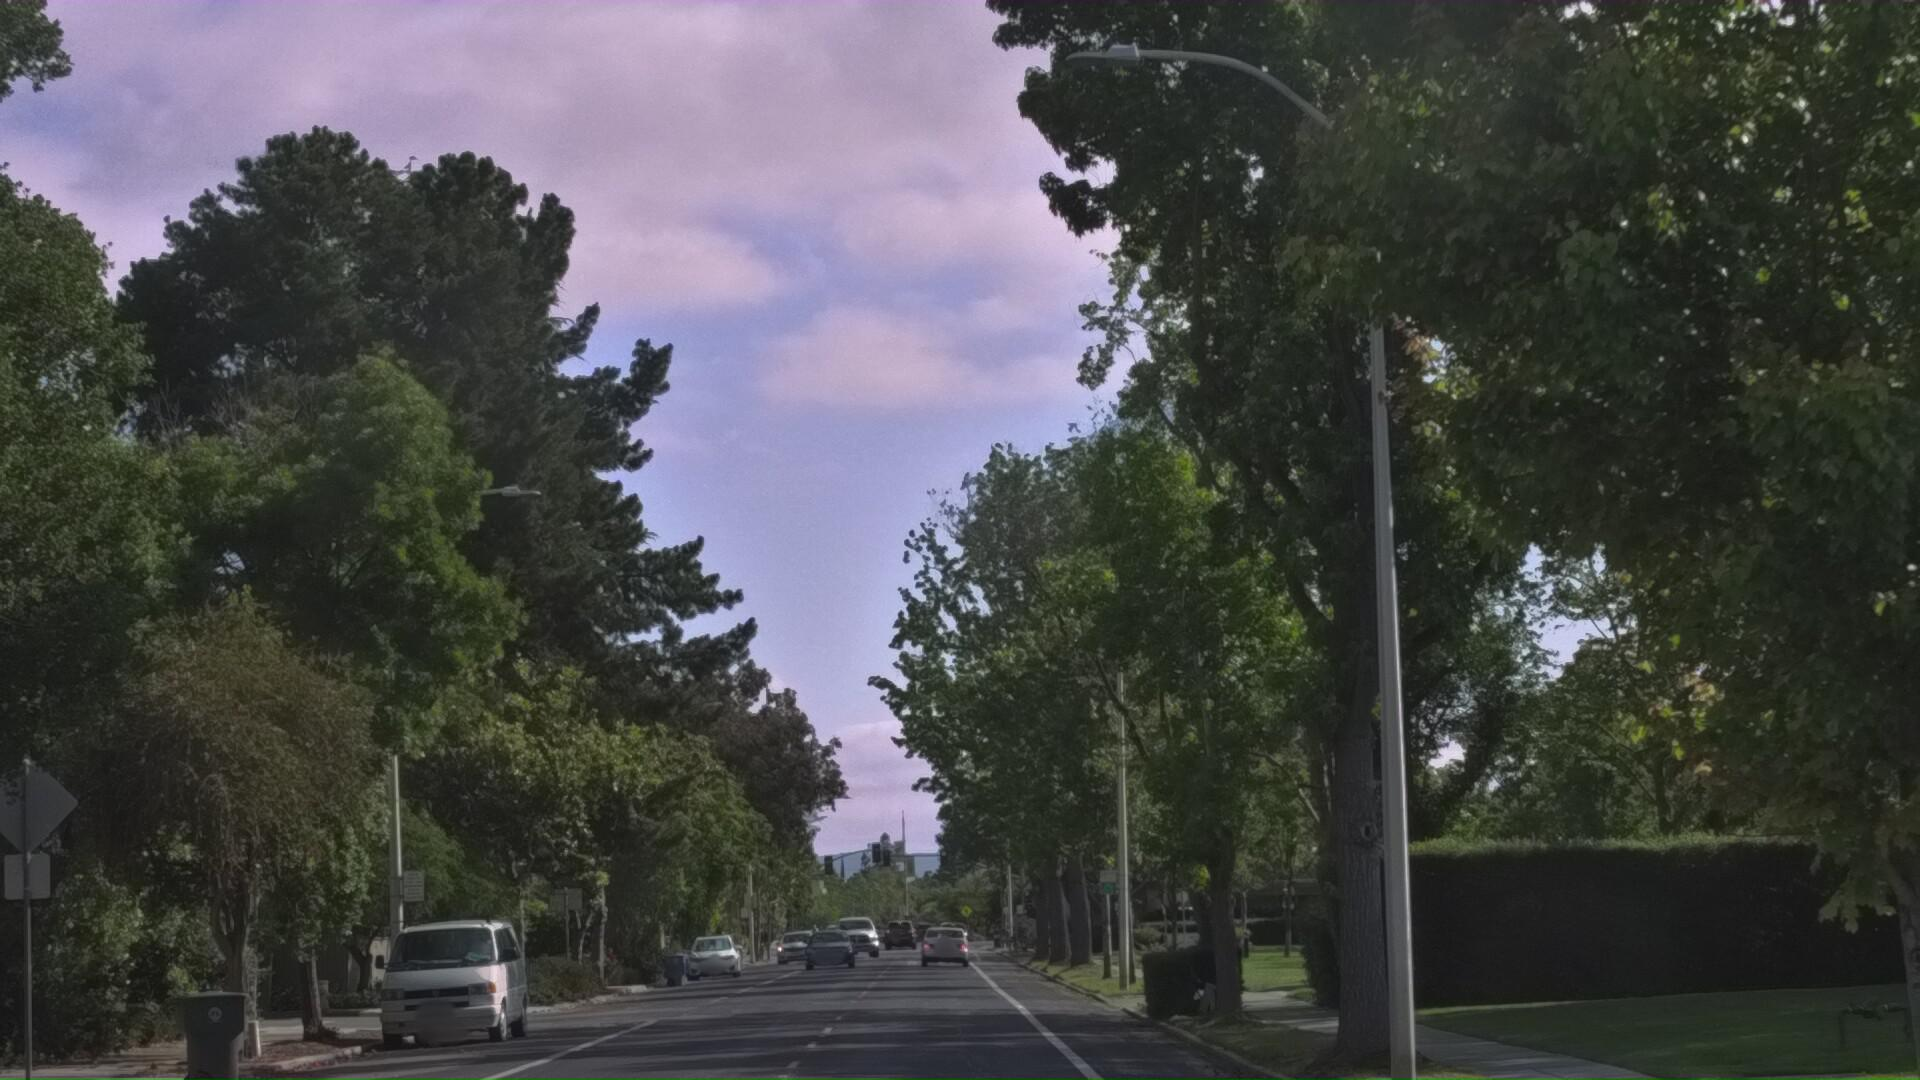car: (359, 1017, 549, 1080)
